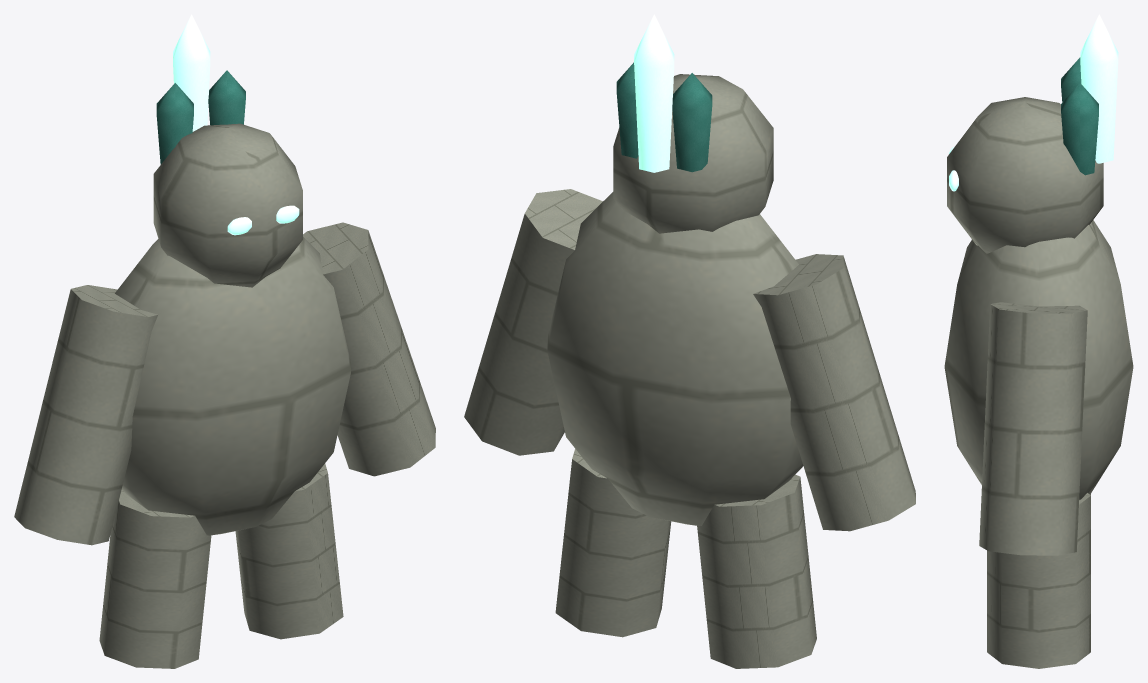
File: golem.glb
The picture shows the model from 3 angles, left to right: view 1: azimuth 30°, elevation 25°; view 2: azimuth 150°, elevation 25°; view 3: azimuth 270°, elevation 25°; orthographic projection. The views are drawn at different scales.
Parts seen in each view (by area): view 1: golem; view 2: golem; view 3: golem.
Boxes of the visible parts, <box> form: golem: <box>14,14,435,668</box>; golem: <box>464,14,915,668</box>; golem: <box>944,14,1133,668</box>.
Bounding box in the file's own units: 1.75 × 2.45 × 0.6894.
Materials: 3 (3 with a texture image).
